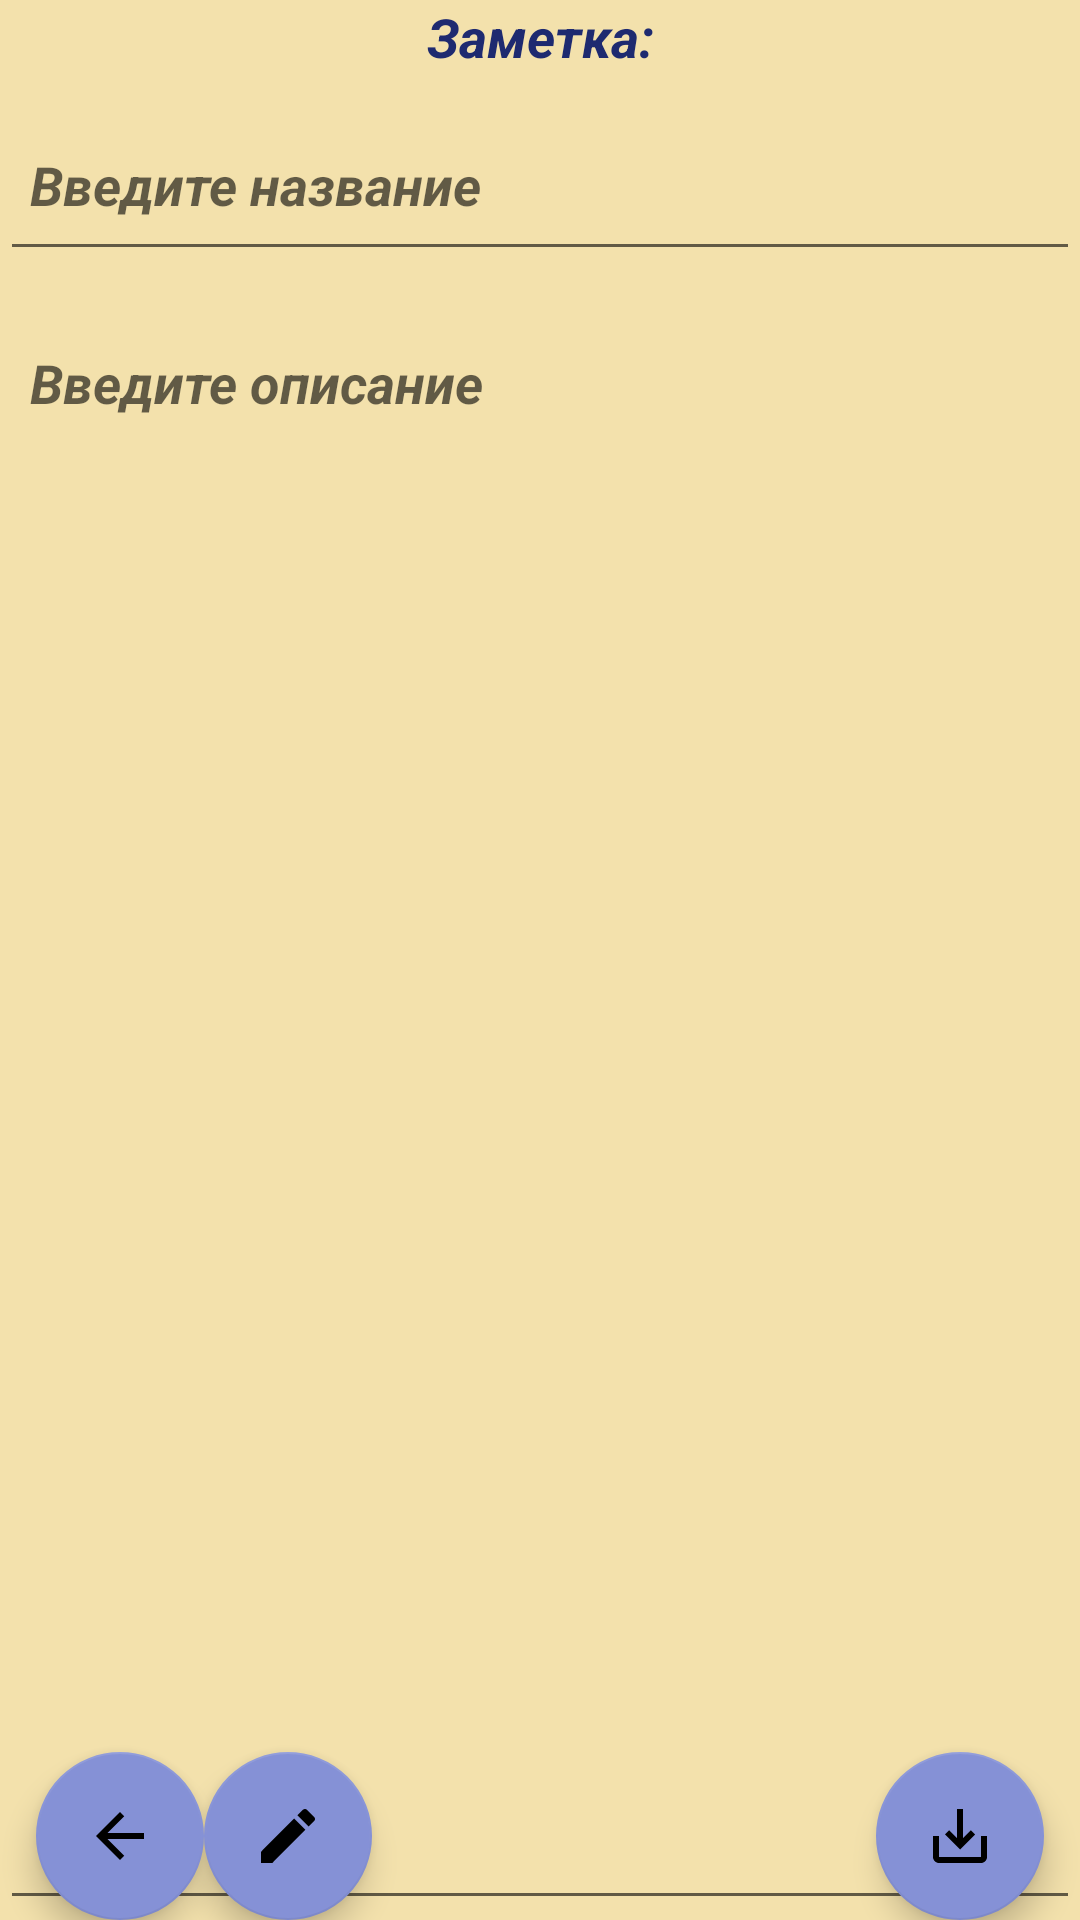

Screen size 1080w x 1920h. Icon name, then its box in pixels as (x1, y1, x2, y2):
back: (36, 1752, 204, 1920)
edit: (204, 1752, 372, 1920)
save: (876, 1752, 1044, 1920)
